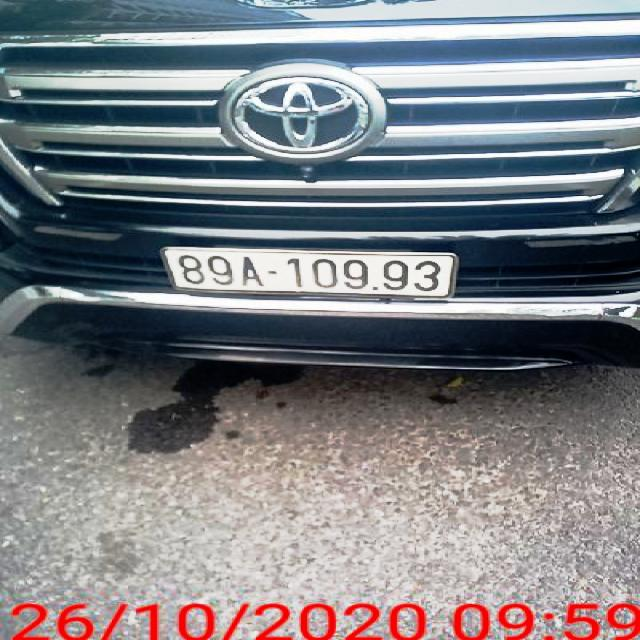license_plate: (164, 249, 453, 297)
